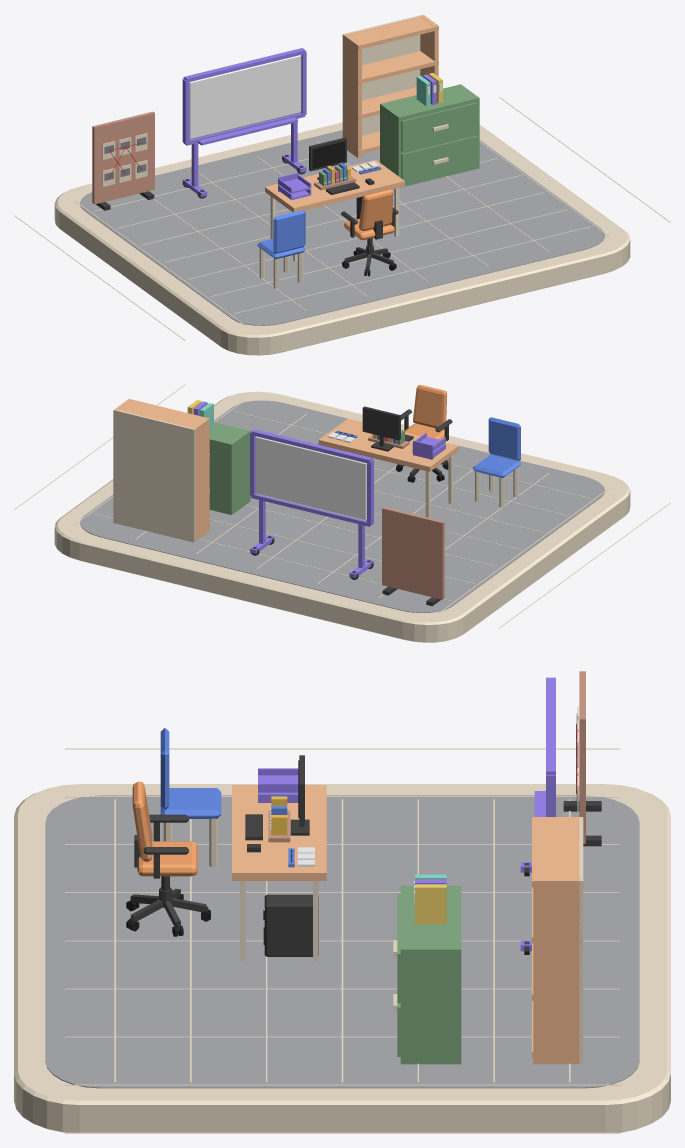
3 views of the same model, one above another, from view 1: azimuth 30°, elevation 25°; view 2: azimuth 150°, elevation 25°; view 3: azimuth 270°, elevation 25° (orthographic). The views are drawn at different scales.
Visible parts, largest first — view 1: COM-02 Floor Surface, COM-01 Rounded Base Direct, Cabinet, Writing surface, Panel, Top, Back, COM-04_Chair_blender_direct, Side, Shelf.003, Shelf.002, Backrest (+6 smaller); view 2: COM-02 Floor Surface, COM-01 Rounded Base Direct, Back, Writing surface, Panel, Cabinet, Top, COM-04_Chair_blender_direct, Side, Backrest, Frame, Shelf.003 (+4 smaller); view 3: COM-02 Floor Surface, COM-01 Rounded Base Direct, Cabinet, Side.001, Top, COM-04_Chair_blender_direct, Shelf.003, Tower, Seat, File.002, Back, Grout X.007 (+12 smaller).
Boxes of the visible parts, x1,y1,x2,y2 form: COM-02 Floor Surface: (80,130,604,325); COM-01 Rounded Base Direct: (54,122,630,355); Cabinet: (380,84,479,187); Writing surface: (189,55,301,139); Panel: (92,111,154,204); Top: (265,160,404,261); Back: (342,14,423,137); COM-04_Chair_blender_direct: (341,189,398,276); Side: (343,33,361,157); Shelf.003: (344,16,438,49); Shelf.002: (343,51,438,84); Backrest: (273,210,305,253); COM-02 Floor Surface: (80,400,604,612); COM-01 Rounded Base Direct: (54,391,630,642); Back: (113,409,195,542); Writing surface: (255,436,366,520); Panel: (382,507,444,599); Cabinet: (209,422,250,514); Top: (318,418,458,517); COM-04_Chair_blender_direct: (396,384,452,482); Side: (191,417,209,541); Backrest: (488,417,520,460); Frame: (362,406,400,451); Shelf.003: (119,399,209,432); COM-02 Floor Surface: (45,795,639,1088); COM-01 Rounded Base Direct: (14,784,670,1132); Cabinet: (393,885,461,1064); Side.001: (533,878,580,1064); Top: (232,785,326,961); COM-04_Chair_blender_direct: (126,781,210,936); Shelf.003: (532,817,582,887); Tower: (264,894,318,956); Seat: (160,788,221,818); File.002: (415,884,446,924); Back: (579,817,583,1064); Grout X.007: (64,1084,620,1085).
Size of the model in its own units: 7.21 by 1.96 by 5.2.
1 material, 1 textured.
